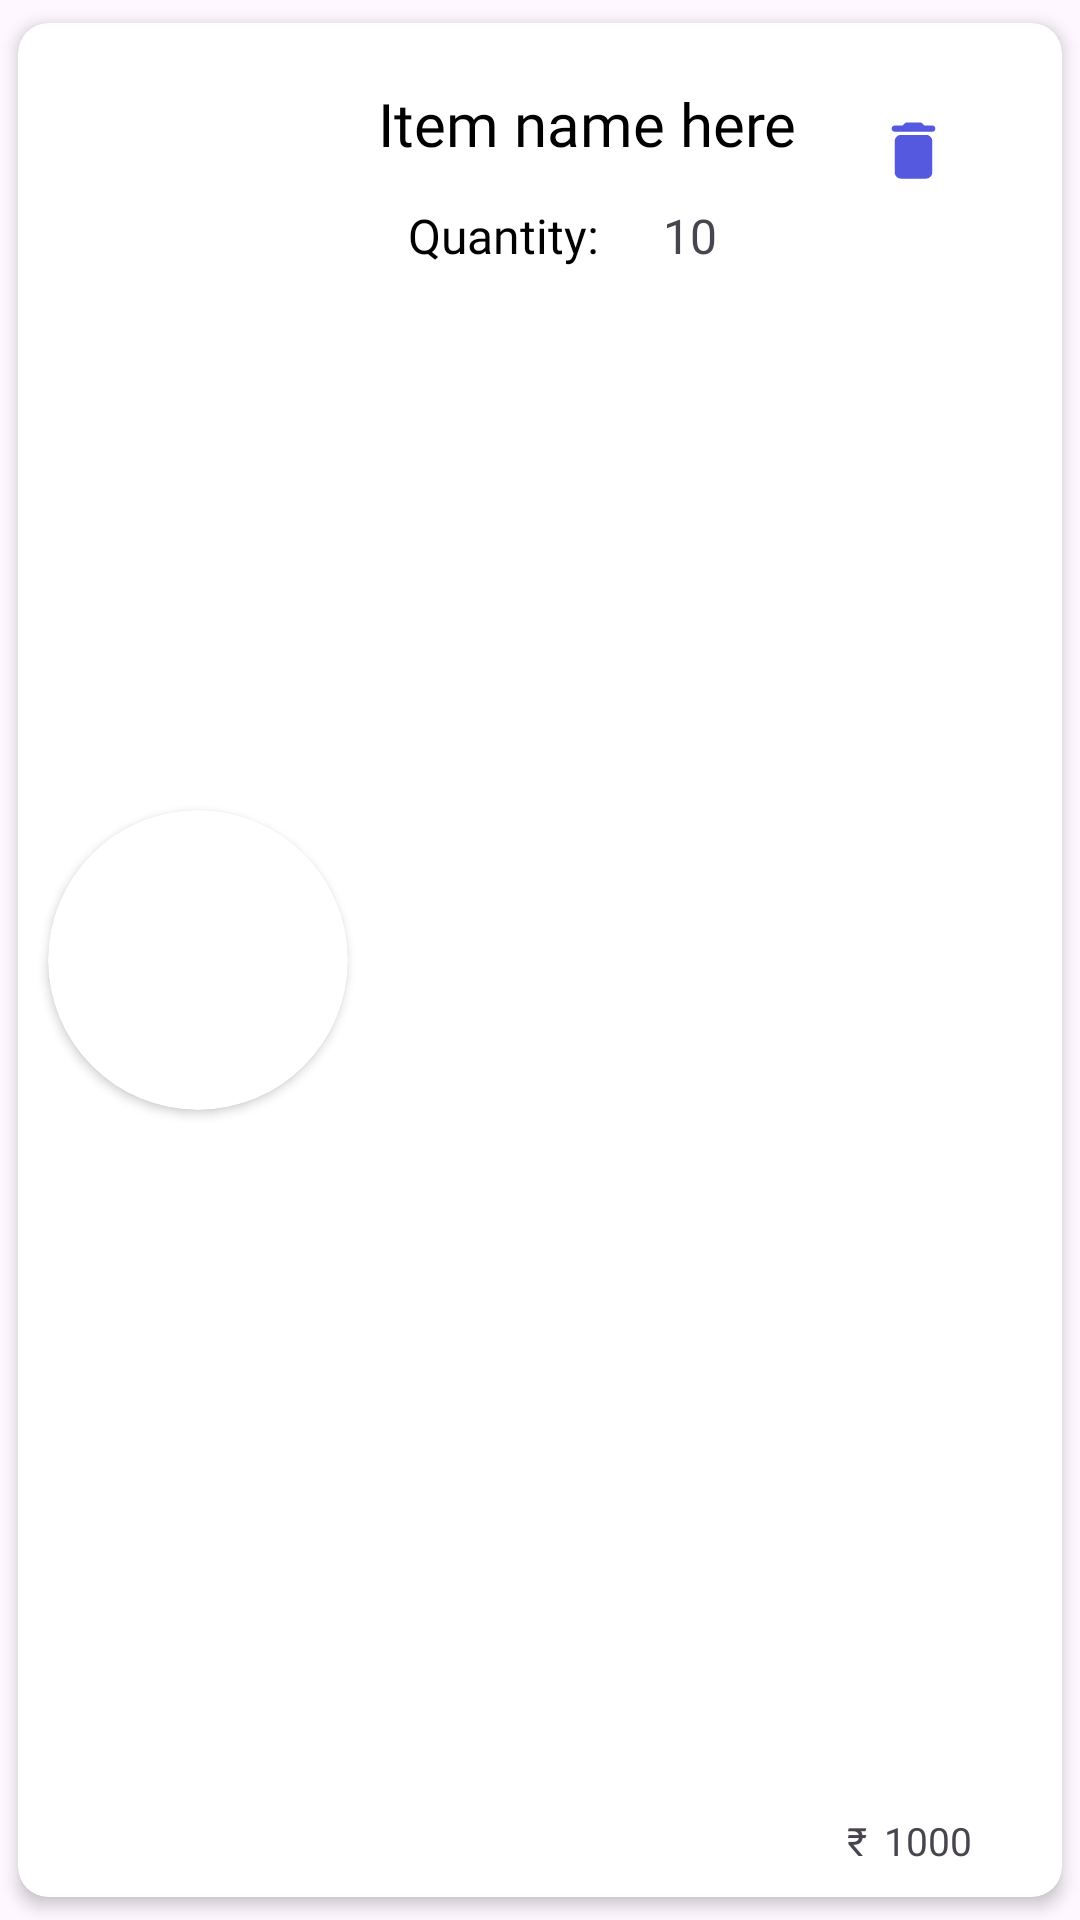

Locate icon controls on the screen. Image size 1080×1920, boxes as Rect(x1, y1, x2, y2).
delete: Rect(891, 122, 936, 179)
